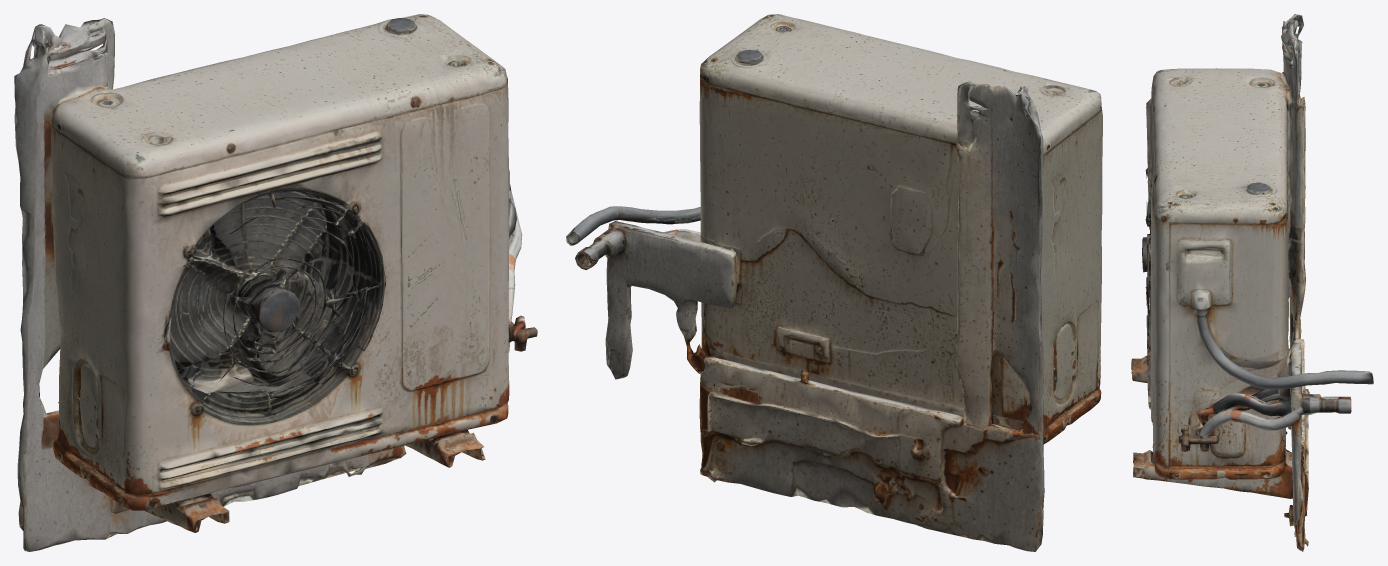
The model's file is AcUnit.glb.
The picture shows the model from 3 angles, left to right: view 1: azimuth 30°, elevation 25°; view 2: azimuth 150°, elevation 25°; view 3: azimuth 270°, elevation 25°; orthographic projection. The views are drawn at different scales.
Visible parts, largest first — view 1: texture_mapping; view 2: texture_mapping; view 3: texture_mapping.
Boxes of the visible parts, <box> form: texture_mapping: <box>14,14,537,551</box>; texture_mapping: <box>566,14,1102,551</box>; texture_mapping: <box>1131,14,1373,551</box>.
Bounding box in the file's own units: 0.9838 × 0.9944 × 0.5385.
1 material, 1 textured.
